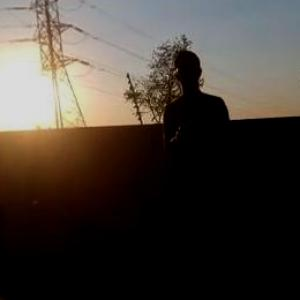follow: (158, 43, 262, 299)
